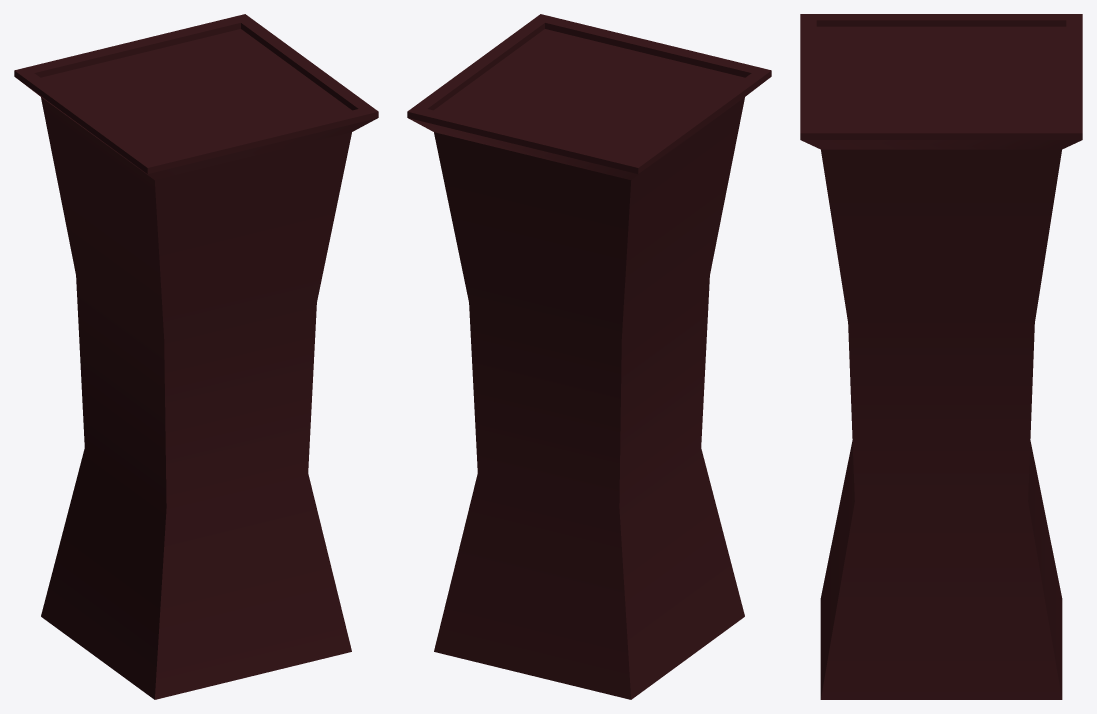
File: Pulpito.glb
3 views of the same model, side by side, from view 1: azimuth 30°, elevation 25°; view 2: azimuth 150°, elevation 25°; view 3: azimuth 270°, elevation 25° (orthographic). The views are drawn at different scales.
Visible parts, largest first — view 1: Cube.001; view 2: Cube.001; view 3: Cube.001.
Boxes of the visible parts, box(x1,y1,x2,y2) form: Cube.001: box(14, 14, 378, 699); Cube.001: box(407, 14, 771, 699); Cube.001: box(800, 14, 1082, 699).
Size of the model in its own units: 2.04 by 4.57 by 2.04.
